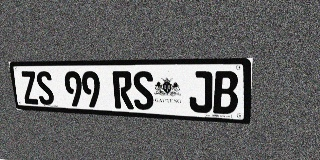9: (81, 71, 102, 108), (63, 71, 84, 107)
B: (213, 71, 238, 114)
J: (189, 71, 212, 113)
R: (112, 71, 134, 109)
S: (132, 71, 154, 110), (35, 71, 55, 105)
Z: (20, 71, 39, 104)
